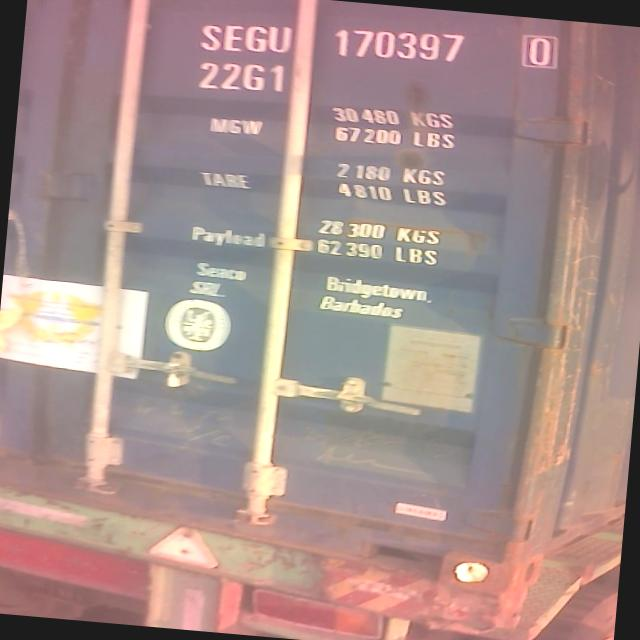seal: (163, 358, 190, 392)
